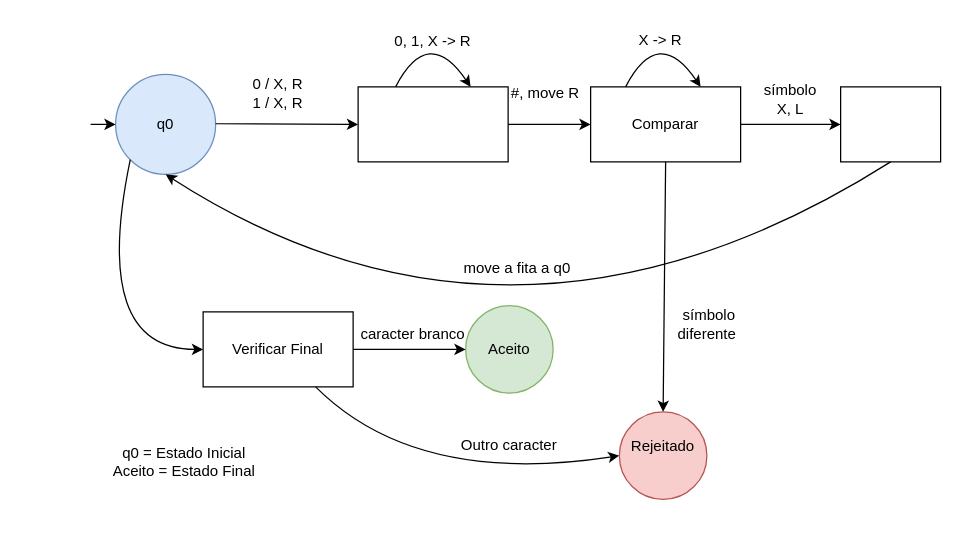
The diagram is 963 pixels wide and 533 high, and some of its shapes have lost their labels. Each missing label, with the centre of its shape:
"buscar hash" goes at (432,124).
"Voltar" goes at (890,124).
